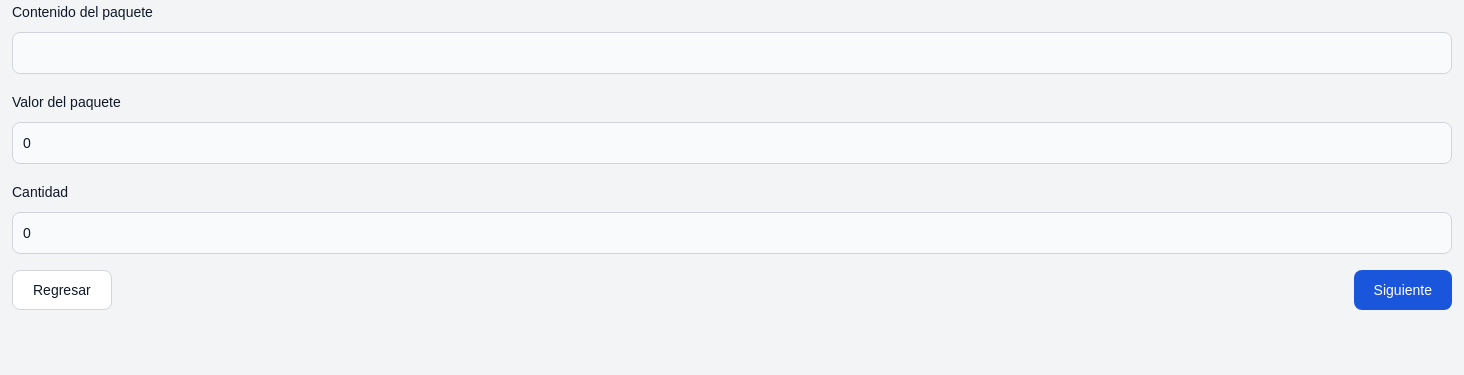
Scenario: ParcelInfoForm › Form validation errors › should display validation error when value field is 0 and form is submitted
The image size is (1464, 375).
// When user enters valid content but leaves value as 0 and submits
Type "Valid content" into the field with test id "content" at (732, 53), box [12, 32, 1452, 74]
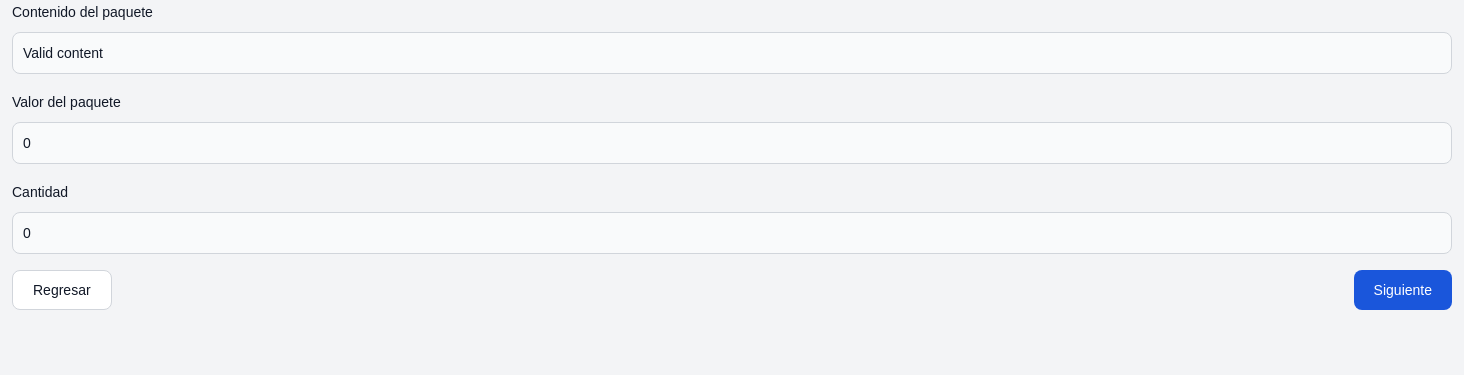
Click the button with test id "parcel-info-form-next-button" at (1403, 290), box [1354, 270, 1452, 310]
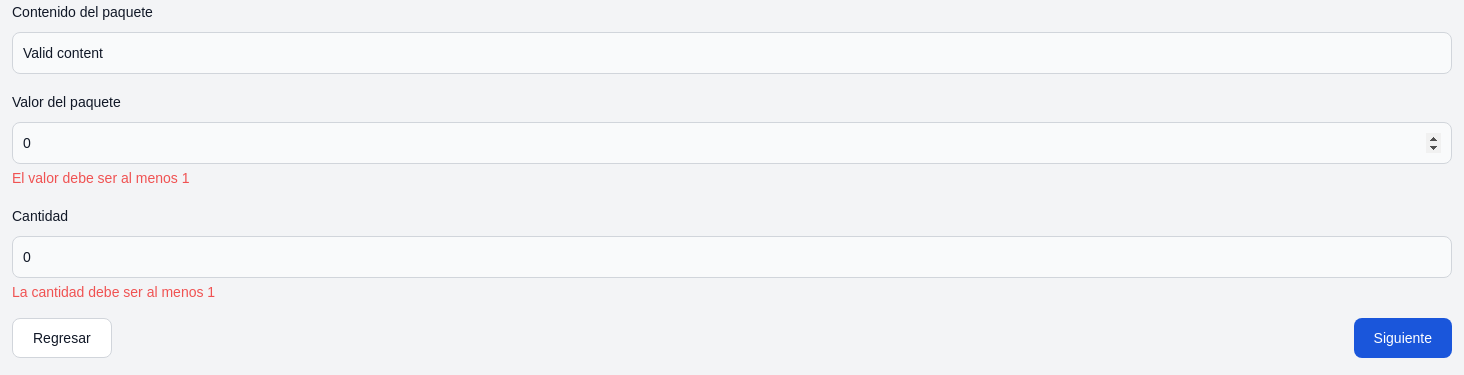
Result: the text "El valor debe ser al menos 1" is shown at [12, 170, 189, 186]
